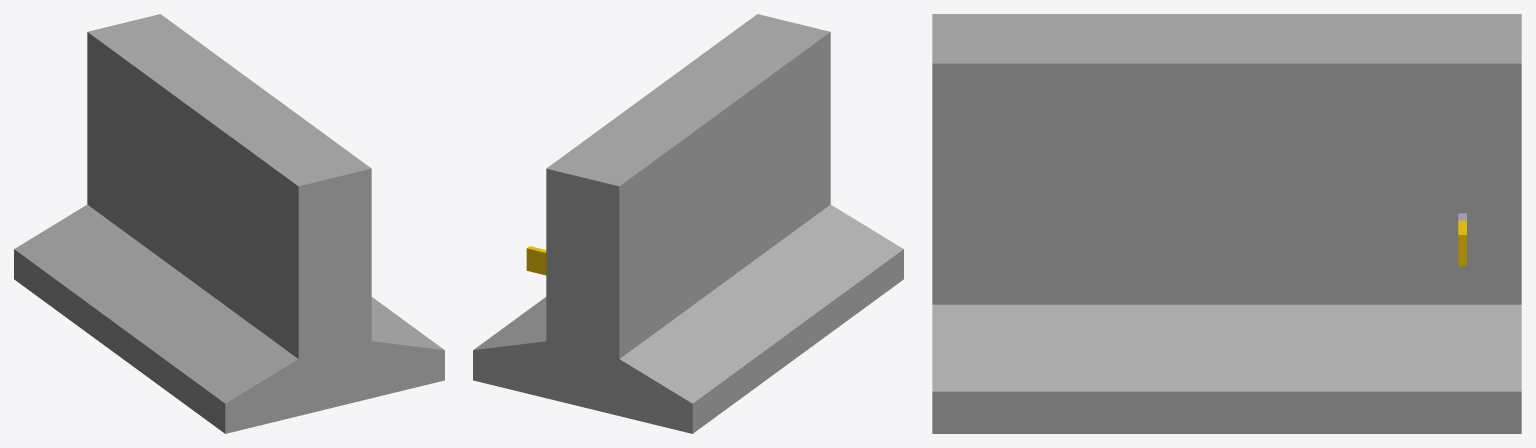
Rendered from barrier_gray_yes.fbx.
3 views of the same model, side by side, from view 1: azimuth 30°, elevation 25°; view 2: azimuth 150°, elevation 25°; view 3: azimuth 270°, elevation 25° (orthographic). The views are drawn at different scales.
Visible parts, largest first — view 1: Cube.067; view 2: Cube.067; view 3: Cube.067.
Boxes of the visible parts, x1,y1,x2,y2 form: Cube.067: (14,14,444,433); Cube.067: (473,14,903,433); Cube.067: (932,14,1521,433).
Size of the model in its own units: 300 by 300 by 500.
2 materials, 2 textured.
